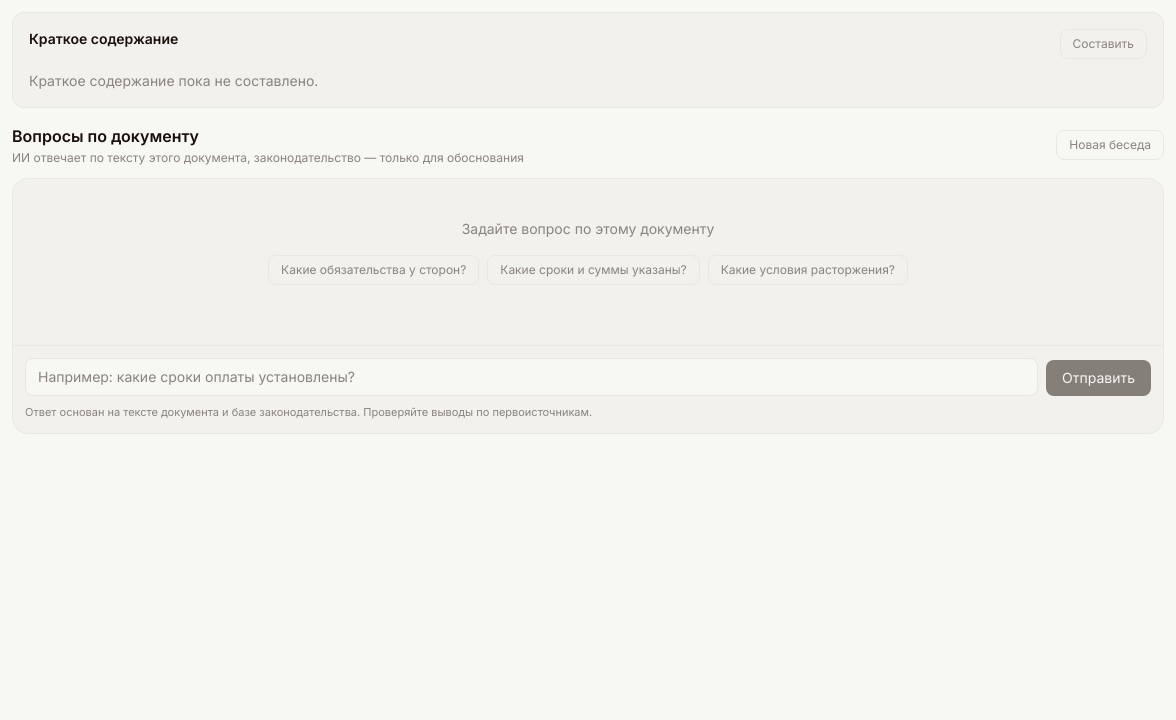
it: DocumentInsightPanel › offers generation when no summary exists yet
The width and height of the screenshot is (1176, 720).
Click the button "Составить": (1103,44) top-left (1060, 29), bottom-right (1147, 59)
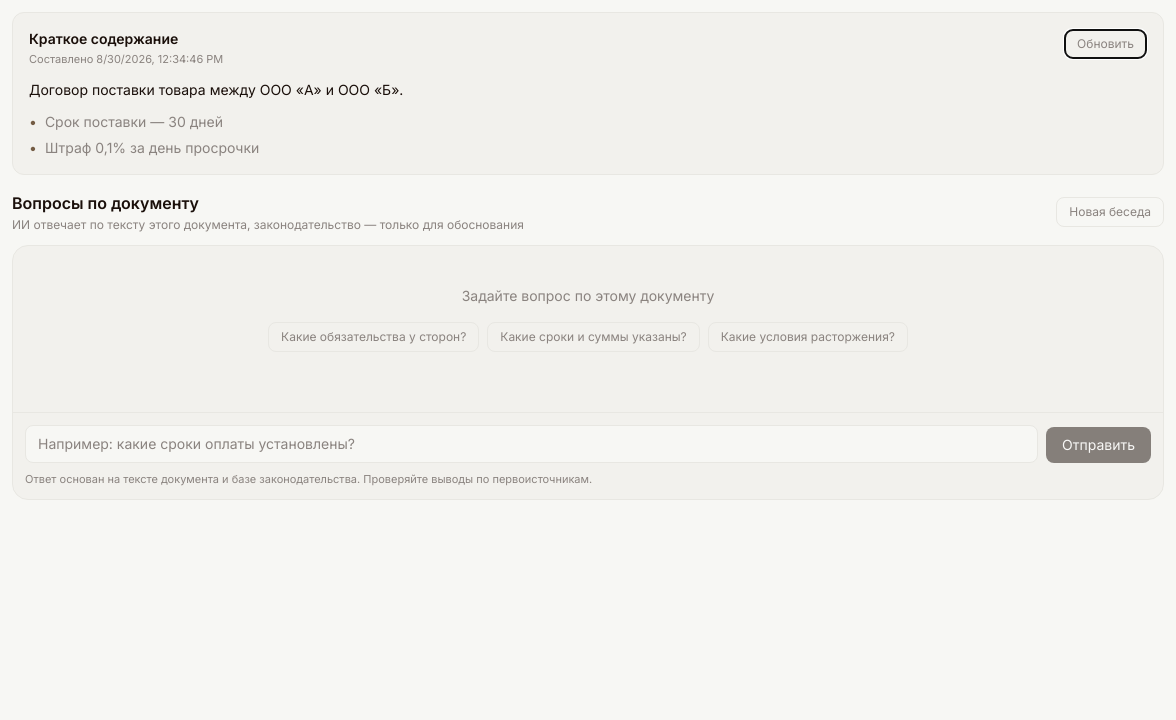
Check: the text "Договор поставки товара между ООО «А» и ООО «Б»." is shown, box top-left (29, 80), bottom-right (403, 98)
